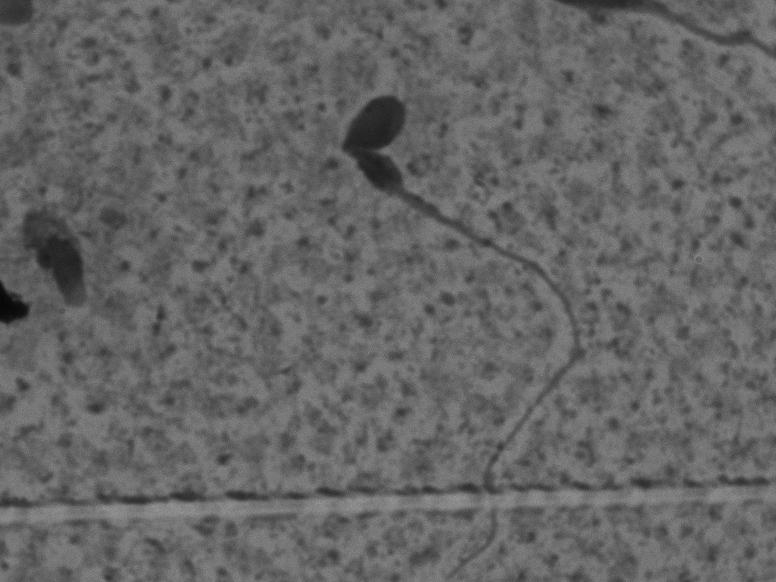Abnormal: (332, 77, 585, 572), (14, 167, 120, 351)
